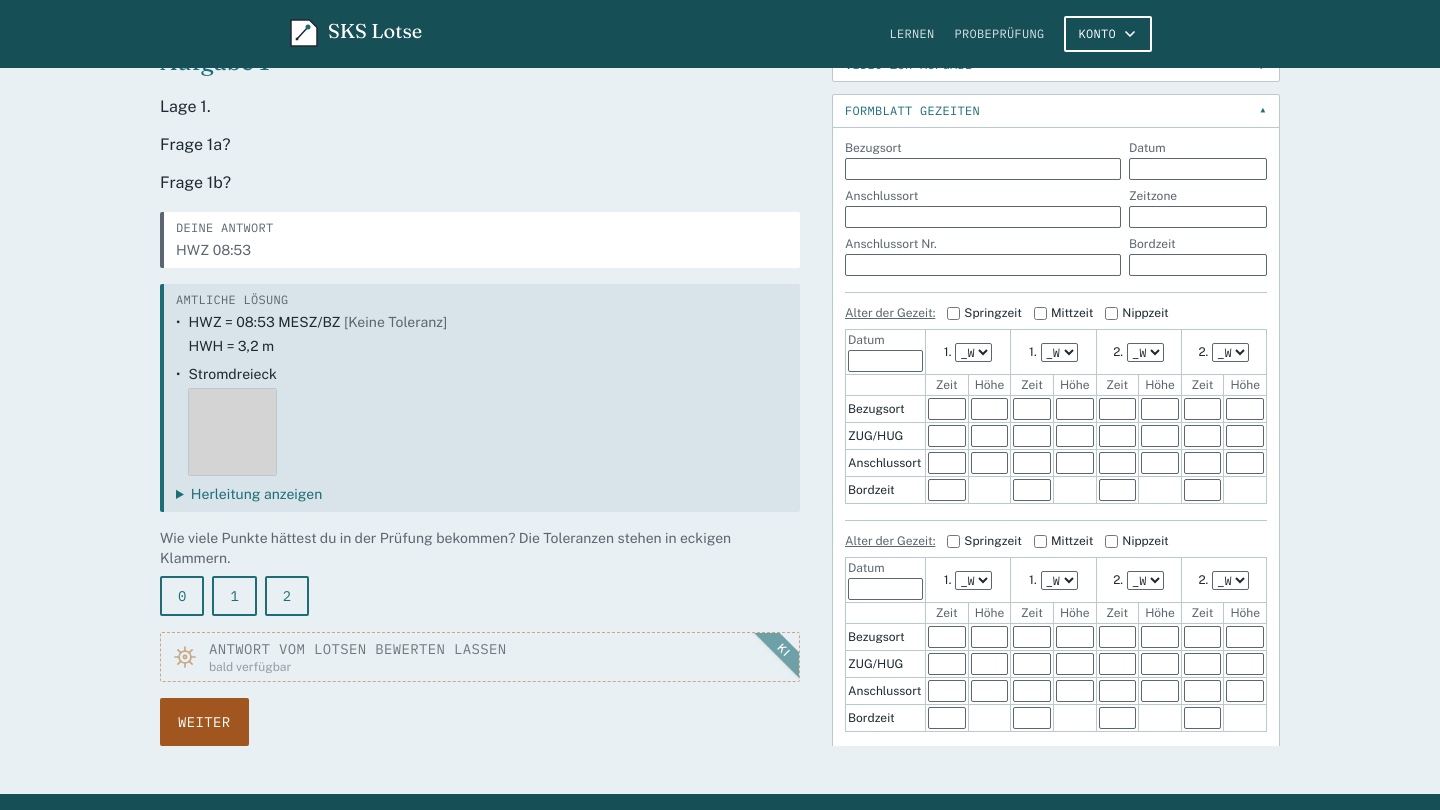
Test case: ChartAttemptPage › asks for the points before moving on, then shows the next task
This screenshot has width=1440, height=810.
(page scrolled)
Click the button "Weiter" at point(204, 722), box [160,698,248,746]
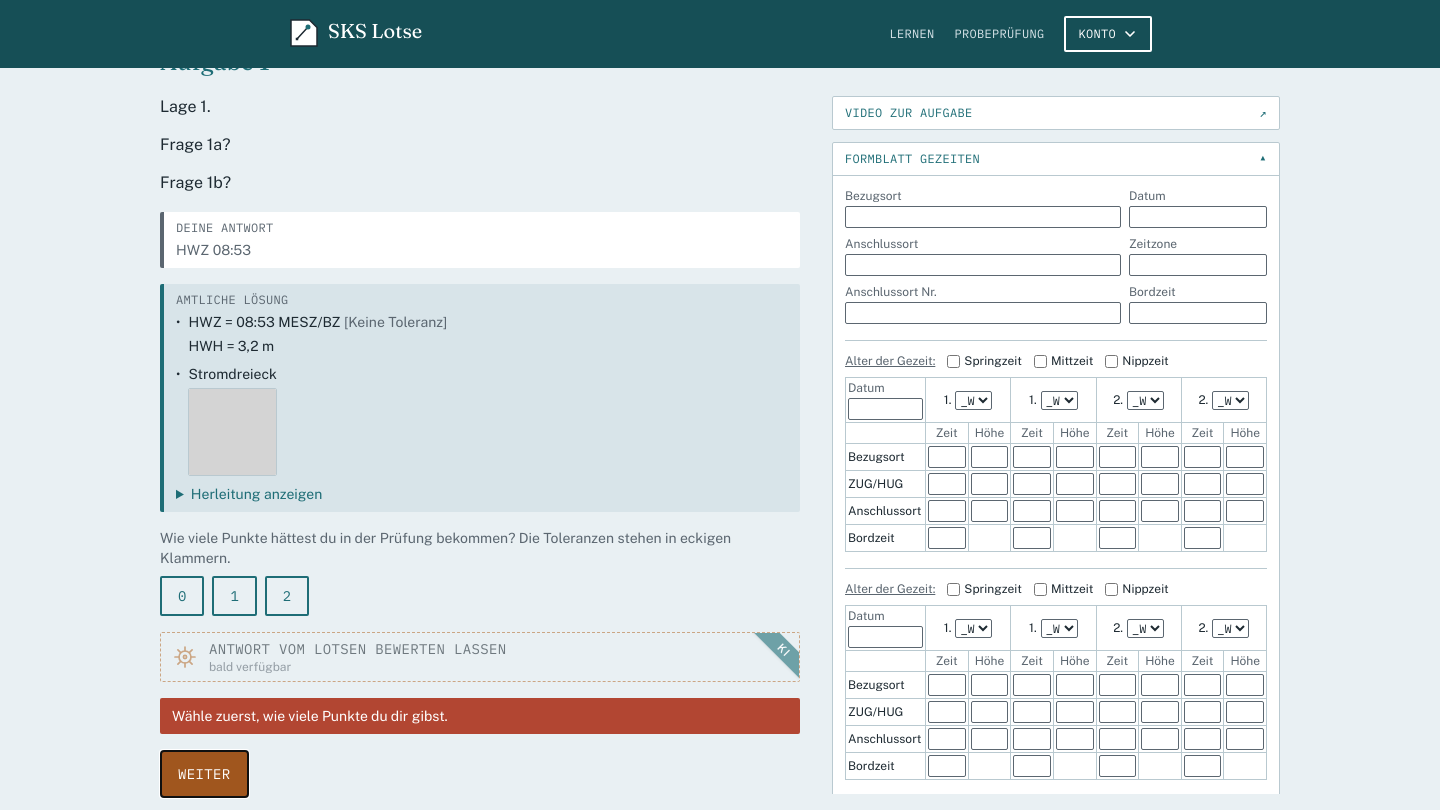
Check: the message reads "Wähle zuerst, wie viele Punkte du dir gibst.", box [172,708,448,724]
Click the radio button labelled "1" at point(235, 596), box [212,576,257,616]
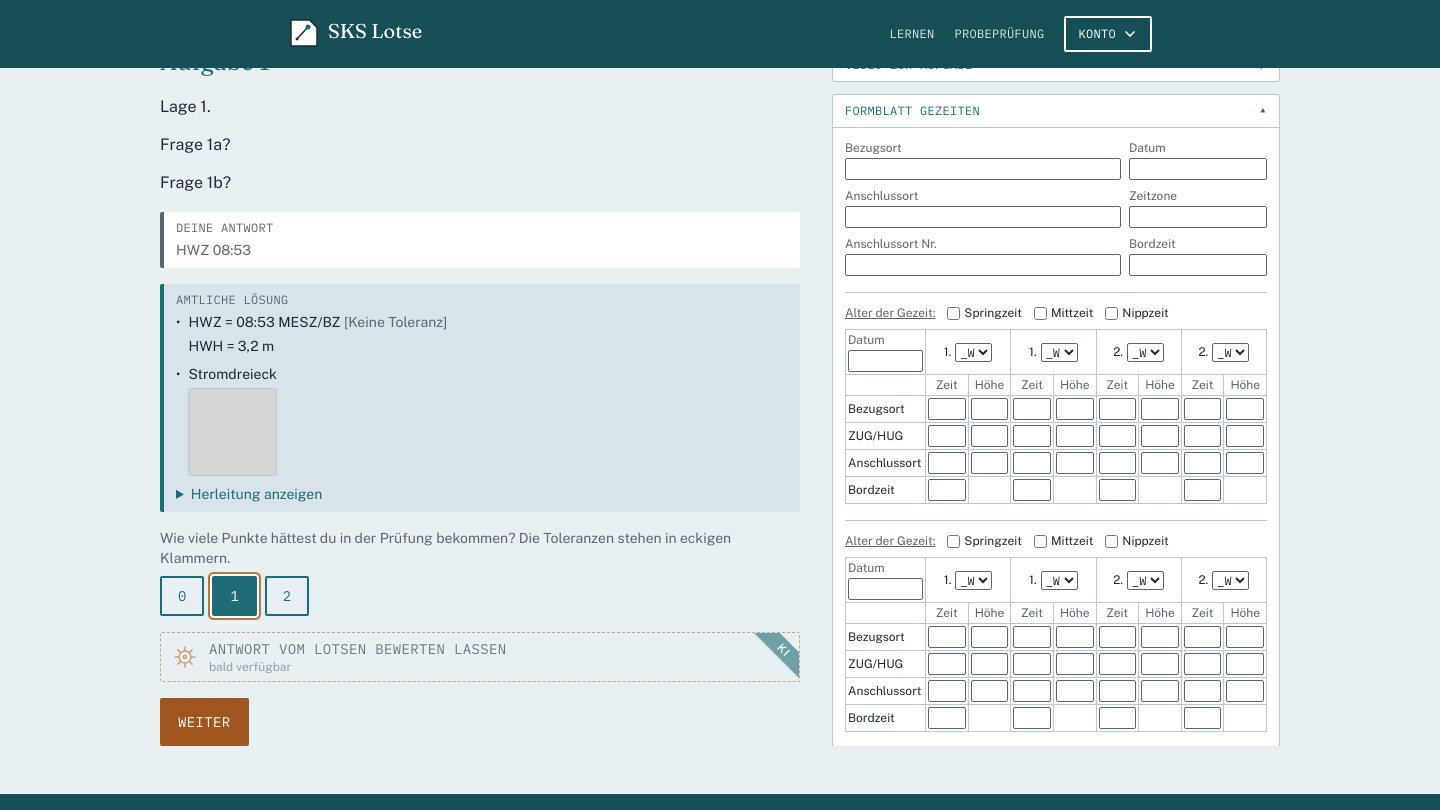
Check: the message "Wähle zuerst, wie viele Punkte du dir gibst." is gone
Click the button "Weiter" at point(204, 722), box [160,698,248,746]
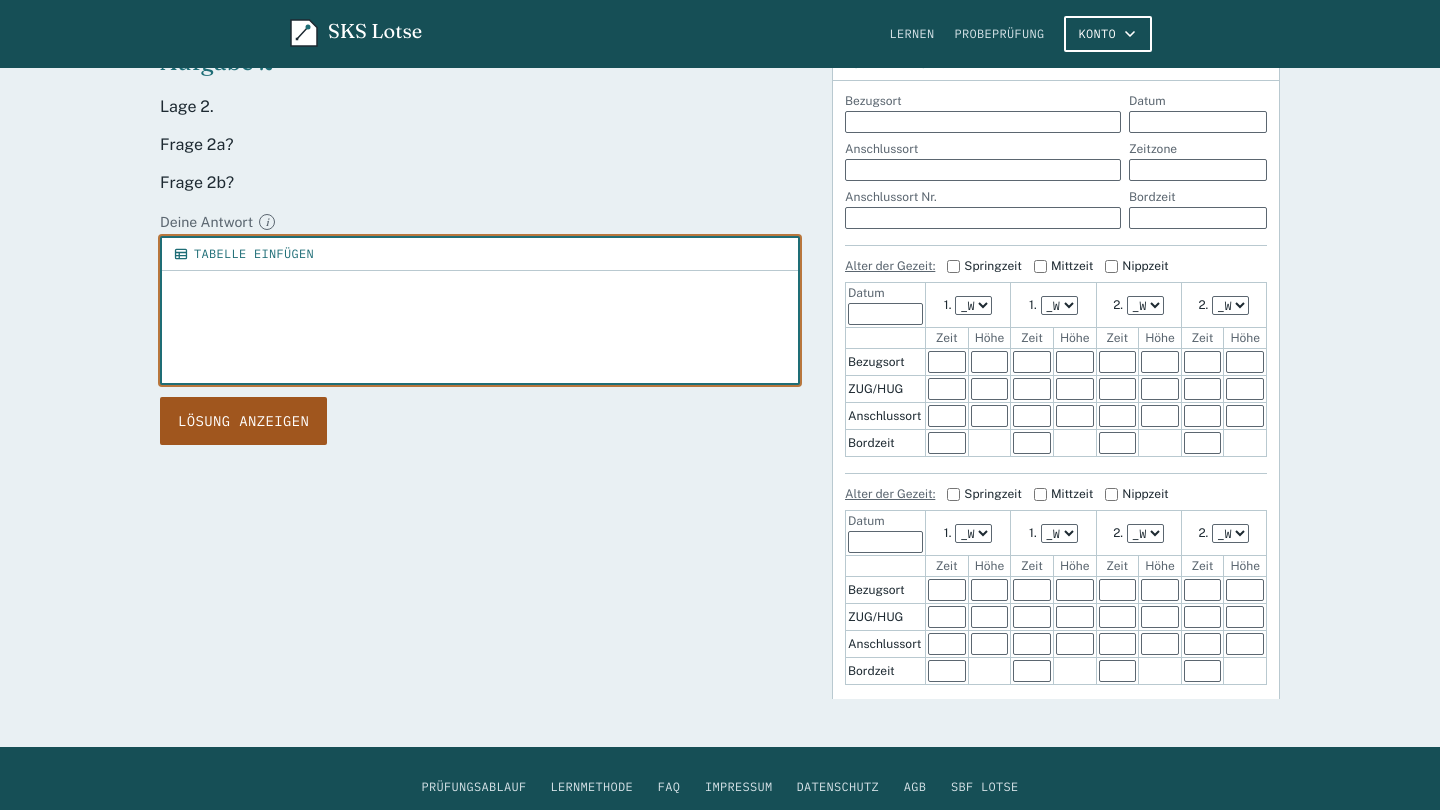
Check: the heading "Aufgabe 2" is shown, box [160,46,273,78]
Check: the text box labelled "Deine Antwort" is empty, box [162,271,798,383]
